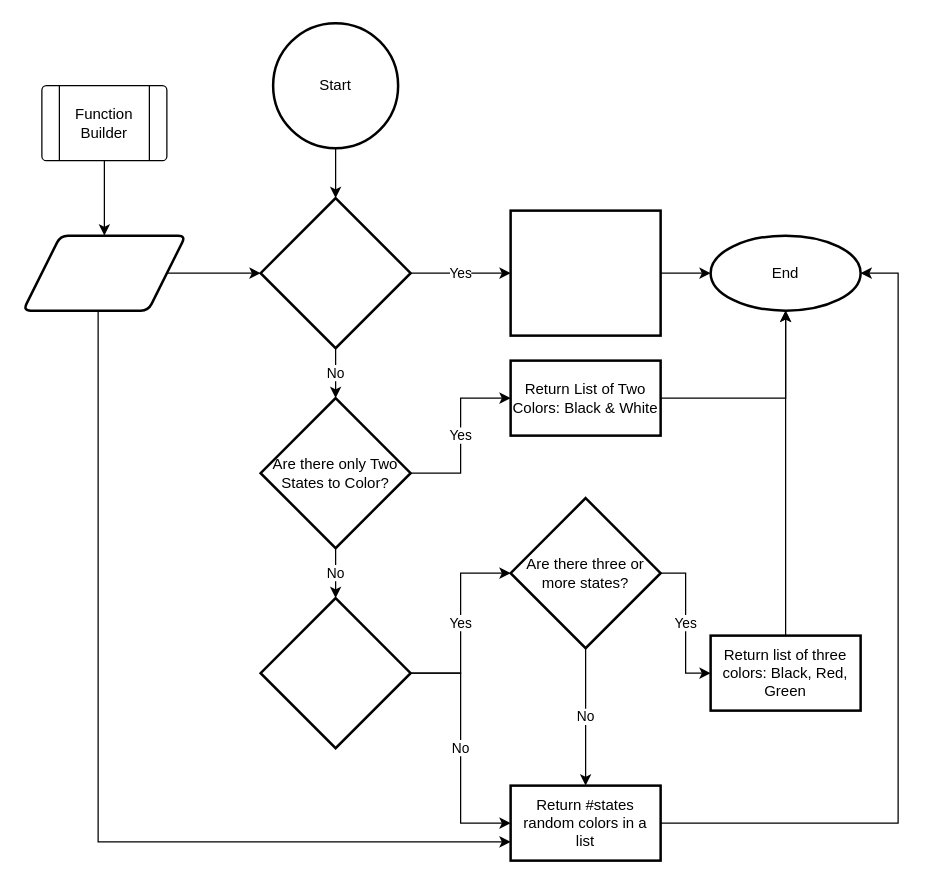
Image size: 930x883. Some labels were removed from this diagram. The shapes that lost their labels are listed below. From the top down, each one's box as (x1, y1, x2, y2) in pixels, then its label:
(21, 234, 186, 311): Rules Function $_meta field
(259, 196, 411, 349): All Colors Valid?
(509, 209, 661, 336): Create new List of Colors and Return Colors specified by Color Specs from Rules
(259, 596, 411, 749): Do you want to simulate forest fires?
